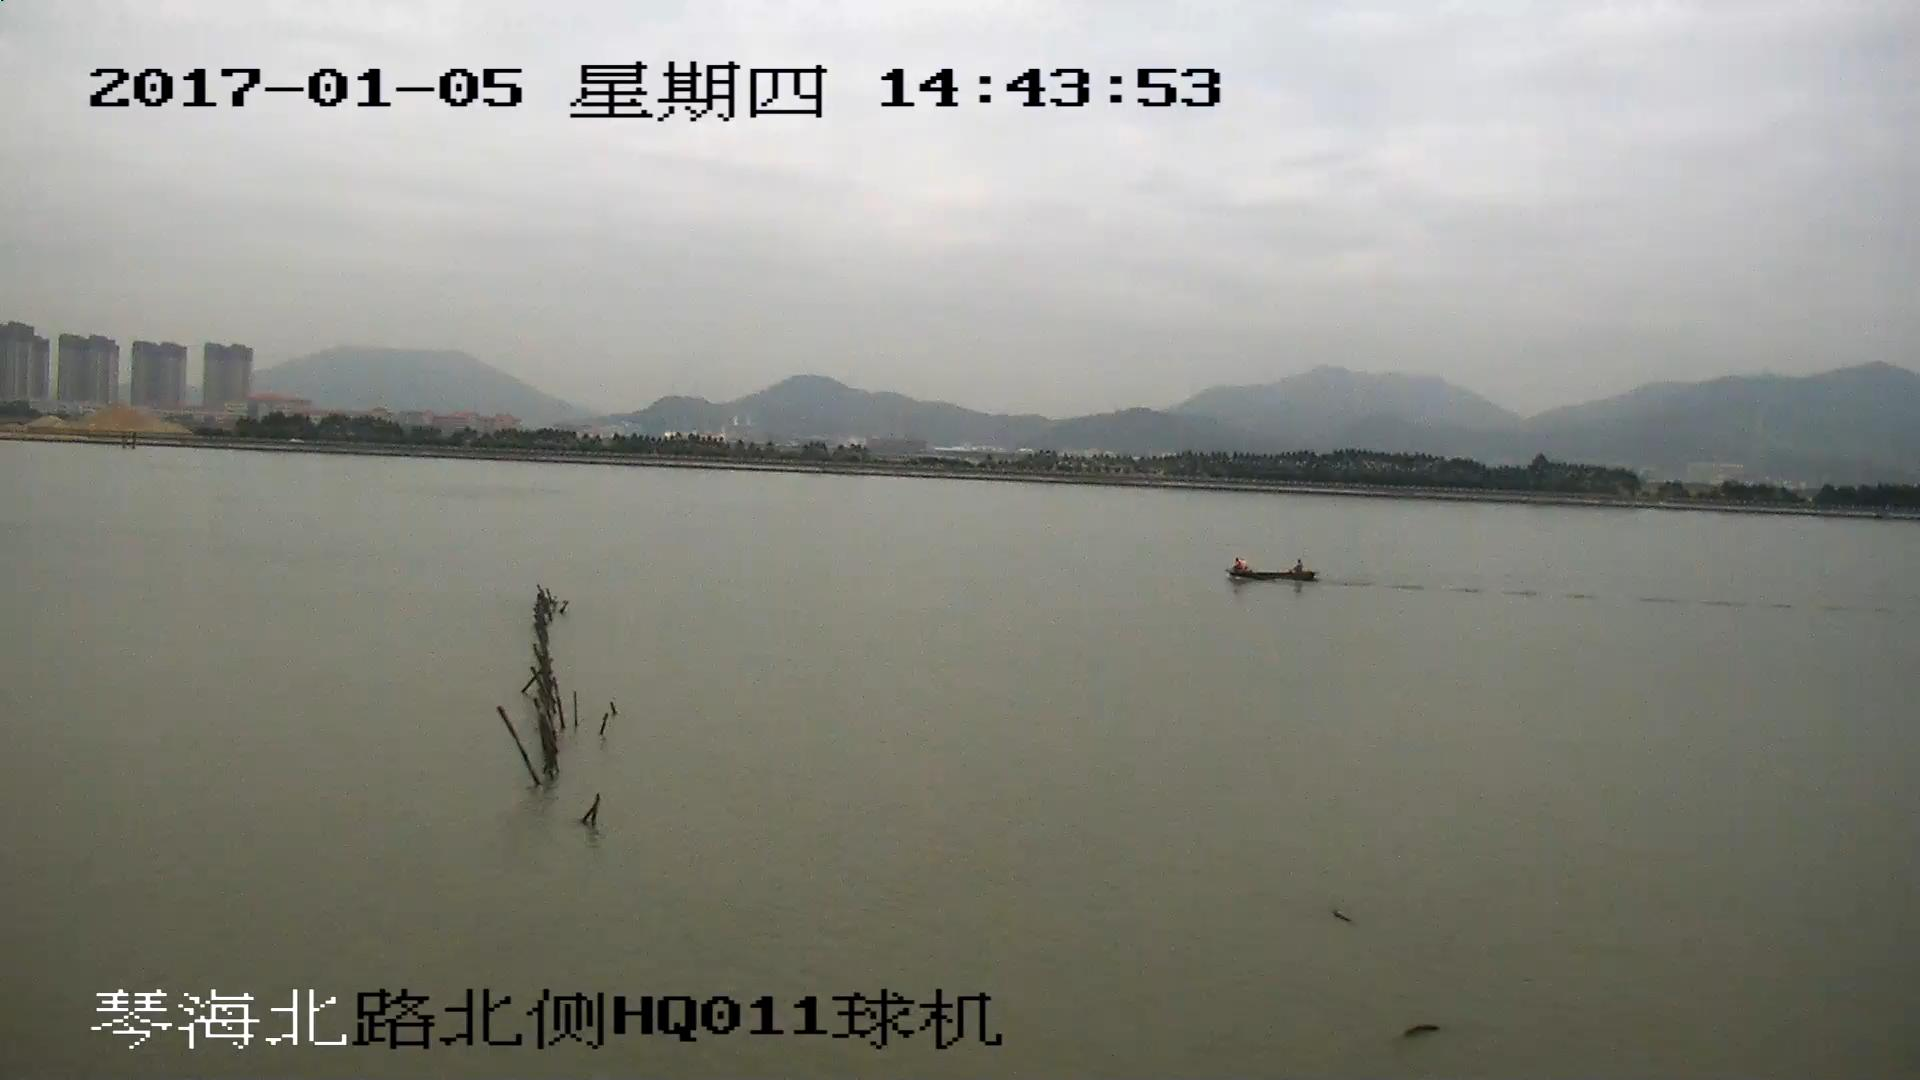fishing boat: (1230, 555, 1322, 586)
